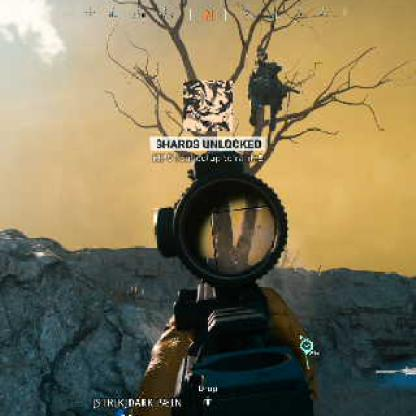enemy: (246, 56, 290, 135)
